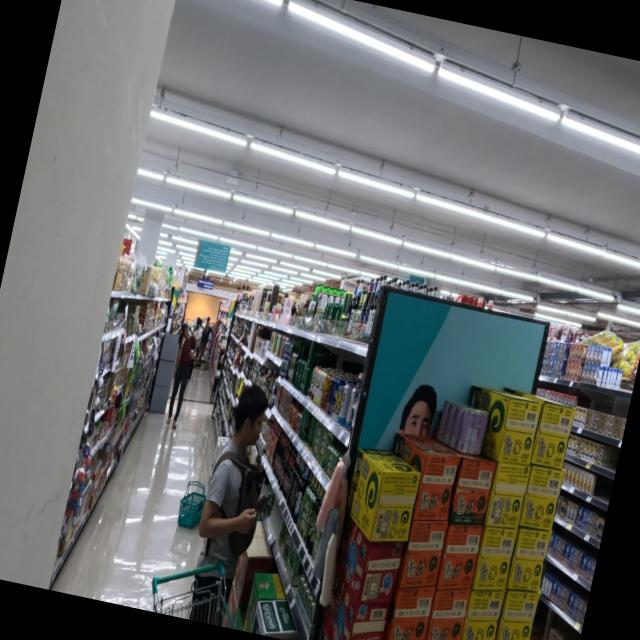shoplifting: (176, 378, 297, 632)
